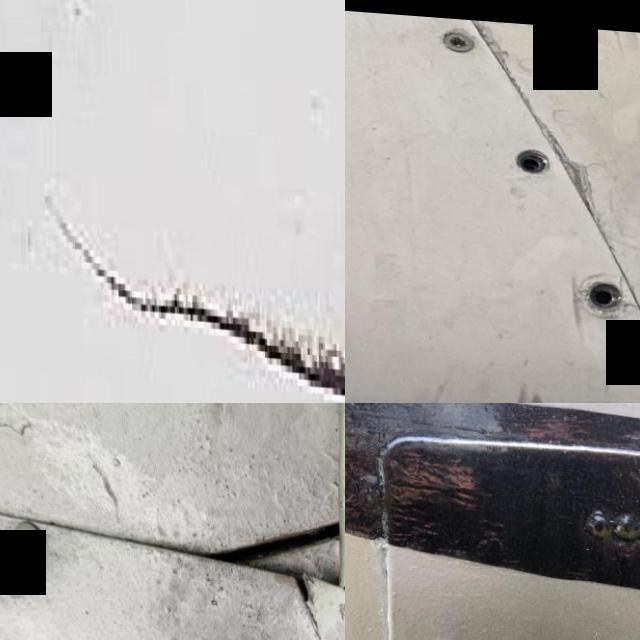Crack: (27, 204, 345, 403), (268, 549, 330, 629)
Missing_Fastener: (578, 266, 624, 318), (510, 138, 556, 181)
